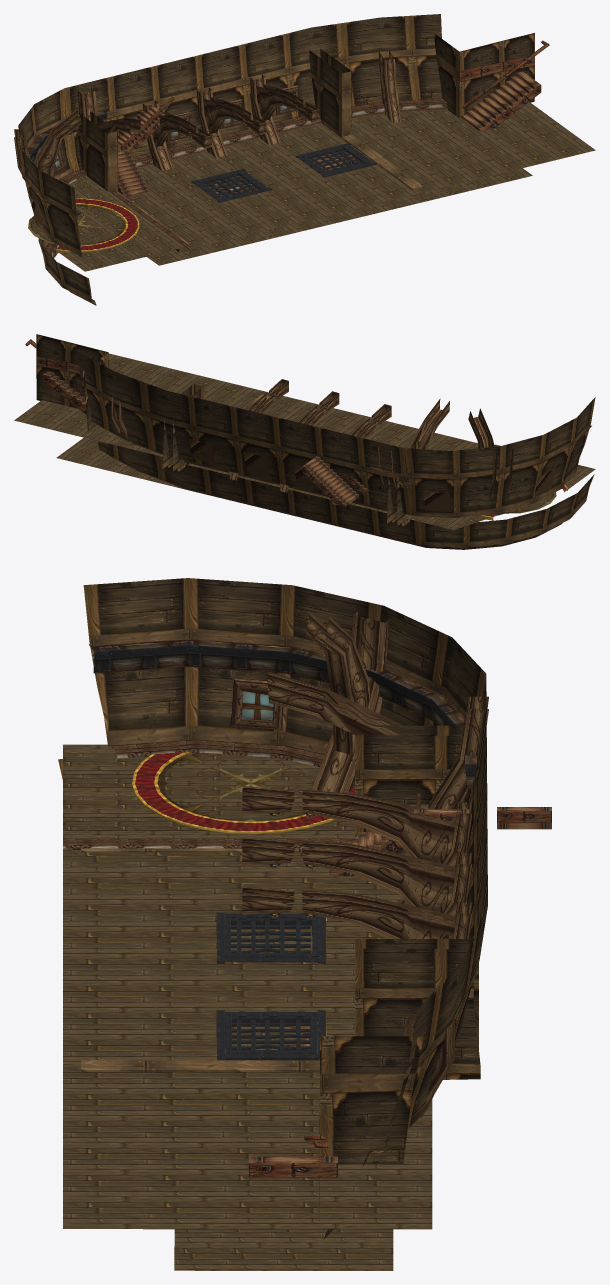
File: SM_Town005_Main.FBX
3 renders of one model, top to bottom at view 1: azimuth 30°, elevation 25°; view 2: azimuth 150°, elevation 25°; view 3: azimuth 270°, elevation 25°, orthographic. The views are drawn at different scales.
Parts seen in each view (by area): view 1: SM_Town005_Main; view 2: SM_Town005_Main; view 3: SM_Town005_Main.
Part boxes in pixels (left/top/right/bottom): SM_Town005_Main: left=14, top=14, right=595, bottom=305; SM_Town005_Main: left=14, top=334, right=595, bottom=549; SM_Town005_Main: left=58, top=578, right=551, bottom=1270.
Bounding box in the file's own units: 8040 × 3320 × 2031.
8 materials, 8 textured.
